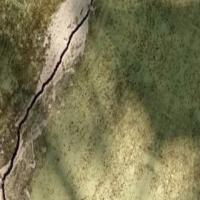crack: (0, 0, 100, 199)
